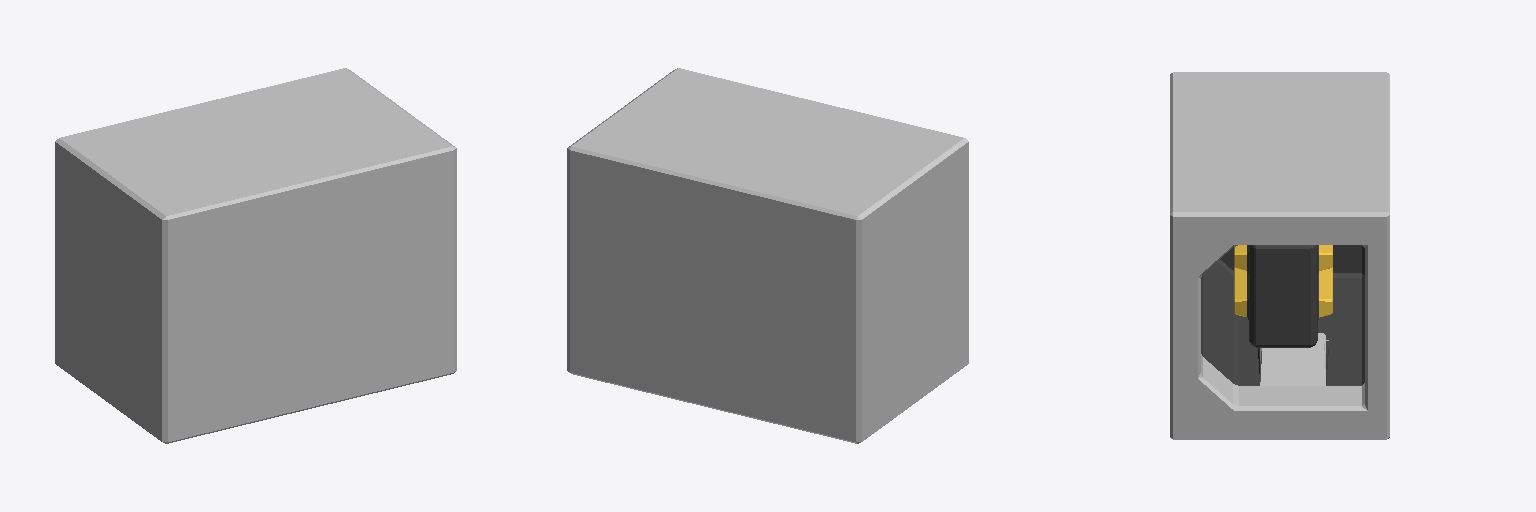
Rendered from USB-Port.obj.
3 renders of one model, left to right at view 1: azimuth 30°, elevation 25°; view 2: azimuth 150°, elevation 25°; view 3: azimuth 270°, elevation 25°, orthographic.
Visible parts, largest first — view 1: USB-Port_Cube.029; view 2: USB-Port_Cube.029; view 3: USB-Port_Cube.029.
Part boxes in pixels (bbox=[...]): USB-Port_Cube.029: bbox=[55, 68, 456, 443]; USB-Port_Cube.029: bbox=[567, 68, 968, 443]; USB-Port_Cube.029: bbox=[1170, 72, 1389, 439].
Size of the model in its own units: 0.0163 by 0.012 by 0.0105.